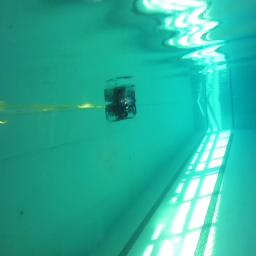Full: (106, 100, 136, 122)
front: (106, 100, 138, 123)
